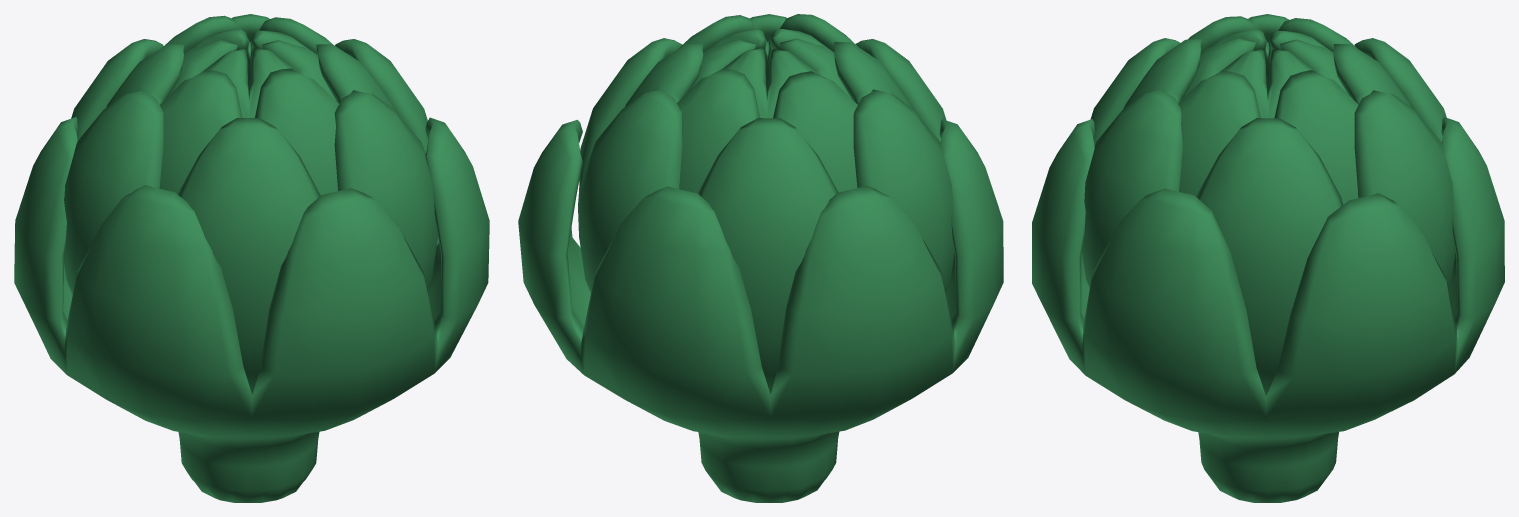
Rendered from Artichoke_01.dae.
The picture shows the model from 3 angles, left to right: view 1: azimuth 30°, elevation 25°; view 2: azimuth 150°, elevation 25°; view 3: azimuth 270°, elevation 25°; orthographic projection.
Parts seen in each view (by area): view 1: Artichoke_01_LOD0; view 2: Artichoke_01_LOD0; view 3: Artichoke_01_LOD0.
Part boxes in pixels (box(x1,y1,x2,y2)): Artichoke_01_LOD0: box(14, 14, 489, 502); Artichoke_01_LOD0: box(518, 14, 1003, 502); Artichoke_01_LOD0: box(1032, 14, 1504, 502).
Size of what is drawn, in the model's own units: 4.78 by 4.94 by 5.21.
